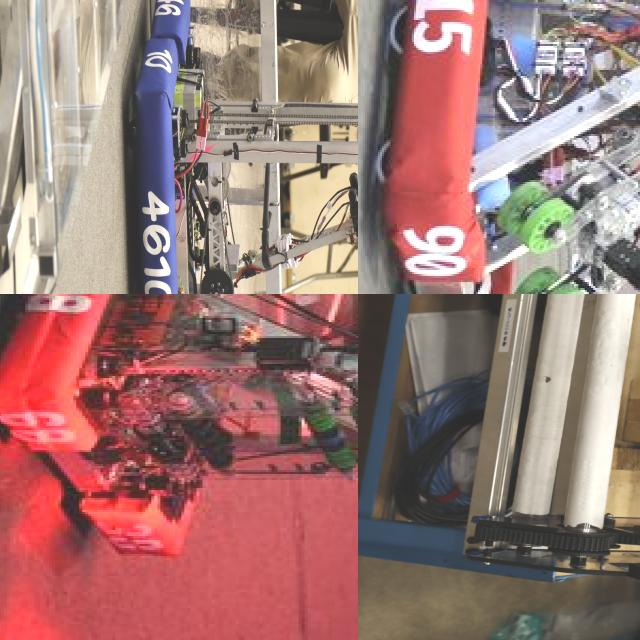FRC-Robots: (0, 294, 358, 559), (373, 0, 640, 294), (130, 0, 358, 294), (497, 294, 640, 640)
